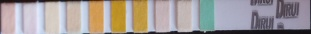color 1: (1, 5, 14, 32)
color 10: (201, 1, 213, 29)
color 2: (24, 4, 36, 32)
color 3: (46, 4, 58, 33)
color 4: (68, 3, 79, 31)
color 5: (90, 2, 102, 31)
color 6: (111, 2, 125, 32)
color 7: (134, 2, 146, 31)
color 8: (156, 1, 169, 31)
color 9: (178, 1, 190, 31)
